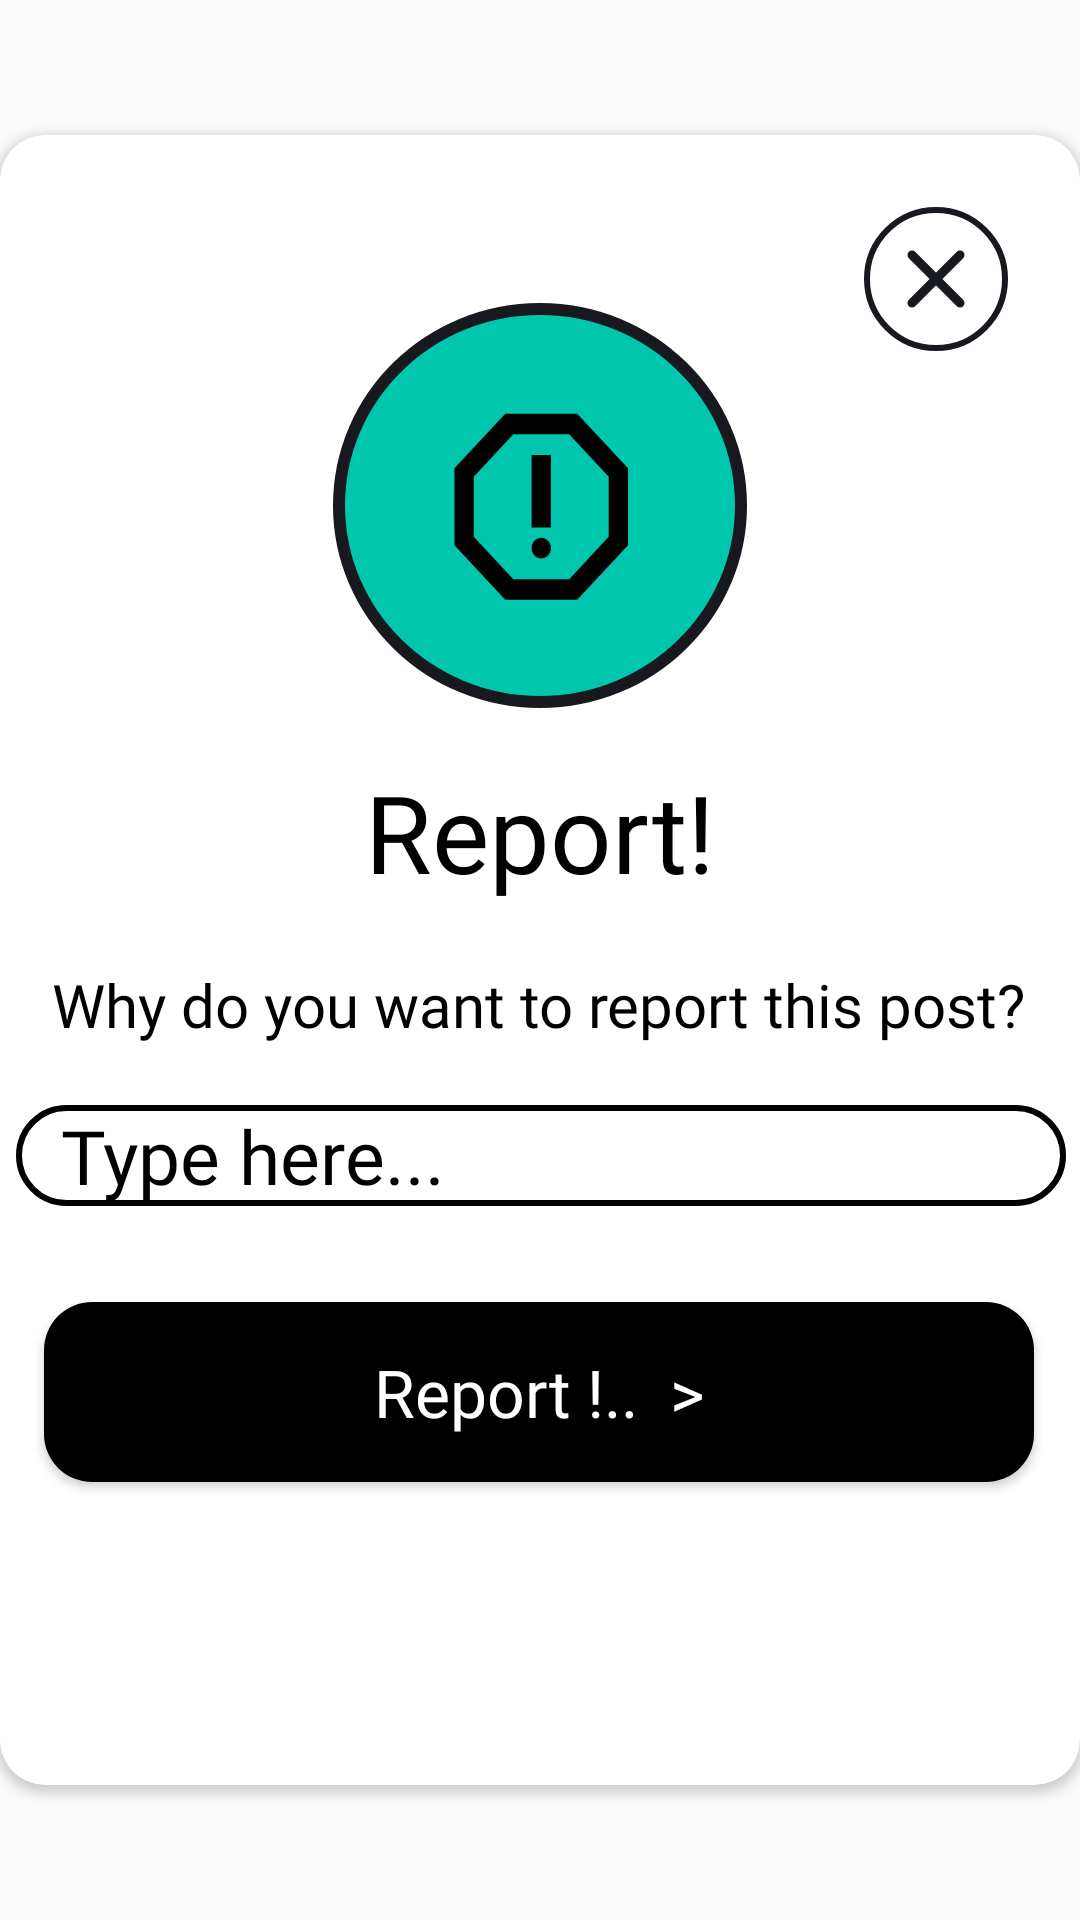

Icon click points for this 1080x1920 phone screenshot, format [x,y]:
cross: [936,279]
